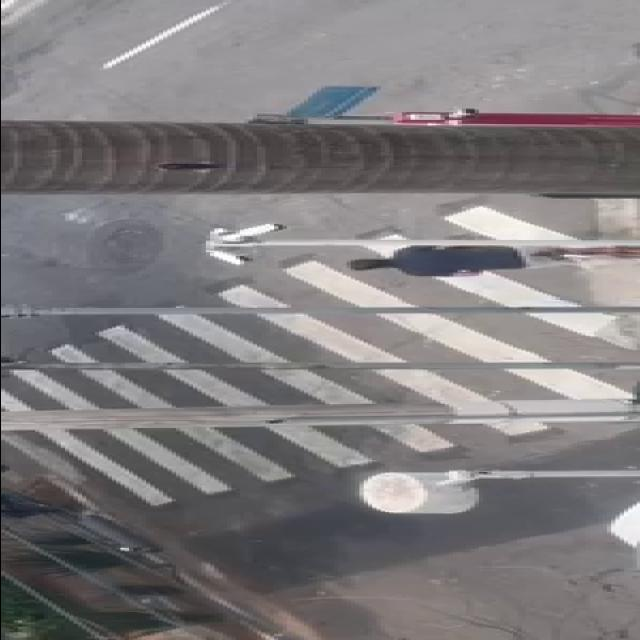bicycle: (333, 235, 640, 279)
